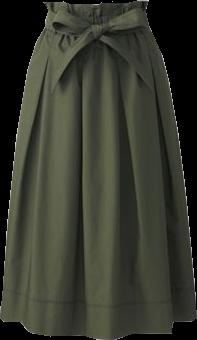Hemline: (0, 316, 196, 339)
Waistline: (43, 23, 149, 34), (45, 0, 146, 6)
